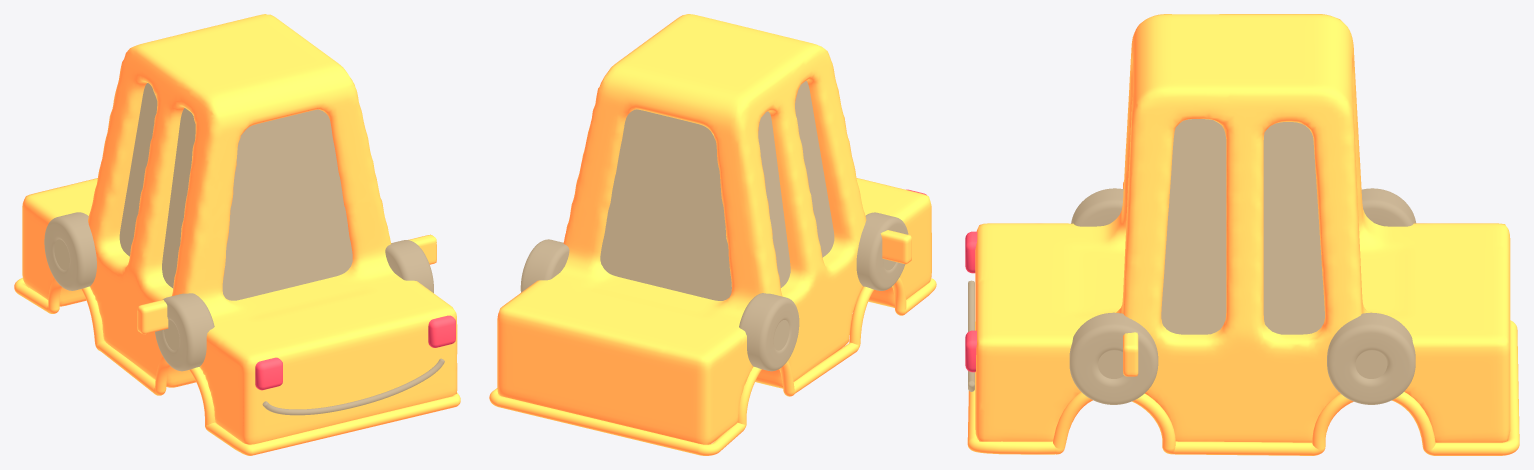
File: YellowCar.fbx
3 views of the same model, side by side, from view 1: azimuth 30°, elevation 25°; view 2: azimuth 150°, elevation 25°; view 3: azimuth 270°, elevation 25° (orthographic). The views are drawn at different scales.
Parts seen in each view (by area): view 1: Polygon_remesh_2, Cube_2, Wheels_1, Sweep_1, Smile, Polygon_remesh, Cube, Cube_1, Polygon_remesh_1; view 2: Polygon_remesh_2, Cube_2, Wheels_1, Sweep_1, Polygon_remesh; view 3: Polygon_remesh_2, Cube_2, Wheels_1, Sweep_1, Polygon_remesh_1.
Part boxes in pixels (x1,y1,x2,y2): Polygon_remesh_2: [22, 14, 457, 444]; Cube_2: [119, 83, 352, 300]; Wheels_1: [44, 212, 433, 371]; Sweep_1: [14, 278, 460, 455]; Smile: [262, 358, 444, 415]; Polygon_remesh: [137, 299, 168, 334]; Cube: [255, 357, 282, 390]; Cube_1: [428, 315, 455, 347]; Polygon_remesh_1: [408, 234, 436, 264]; Polygon_remesh_2: [497, 14, 931, 444]; Cube_2: [600, 81, 834, 300]; Wheels_1: [520, 212, 908, 371]; Sweep_1: [489, 277, 936, 455]; Polygon_remesh: [880, 230, 911, 263]; Polygon_remesh_2: [975, 14, 1510, 442]; Cube_2: [1161, 119, 1324, 334]; Wheels_1: [1069, 188, 1415, 404]; Sweep_1: [967, 320, 1519, 455]; Polygon_remesh_1: [1123, 332, 1138, 376].
Bounding box in the file's own units: 2301 × 2179 × 3193.
